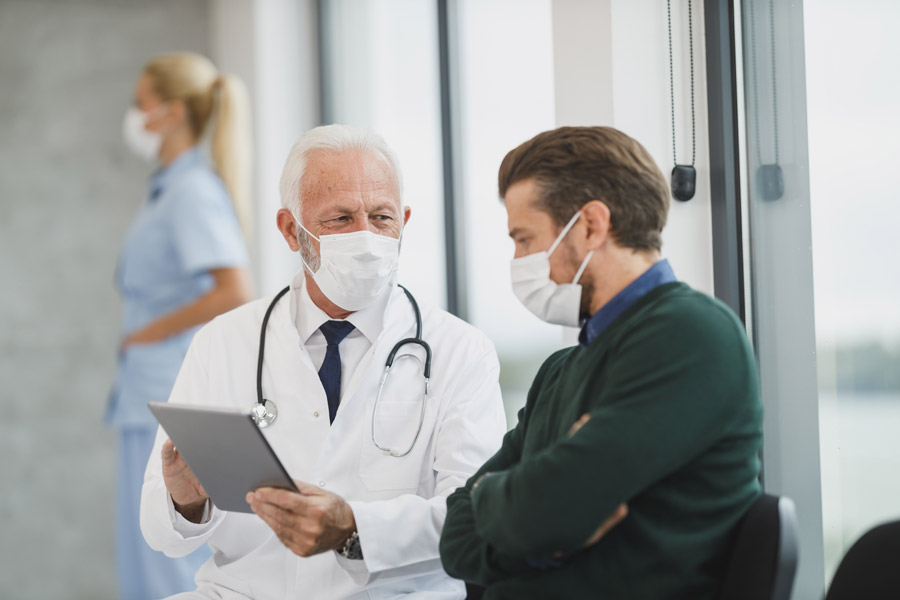female: (107, 52, 263, 319)
male: (142, 126, 509, 600), (438, 124, 773, 600)
